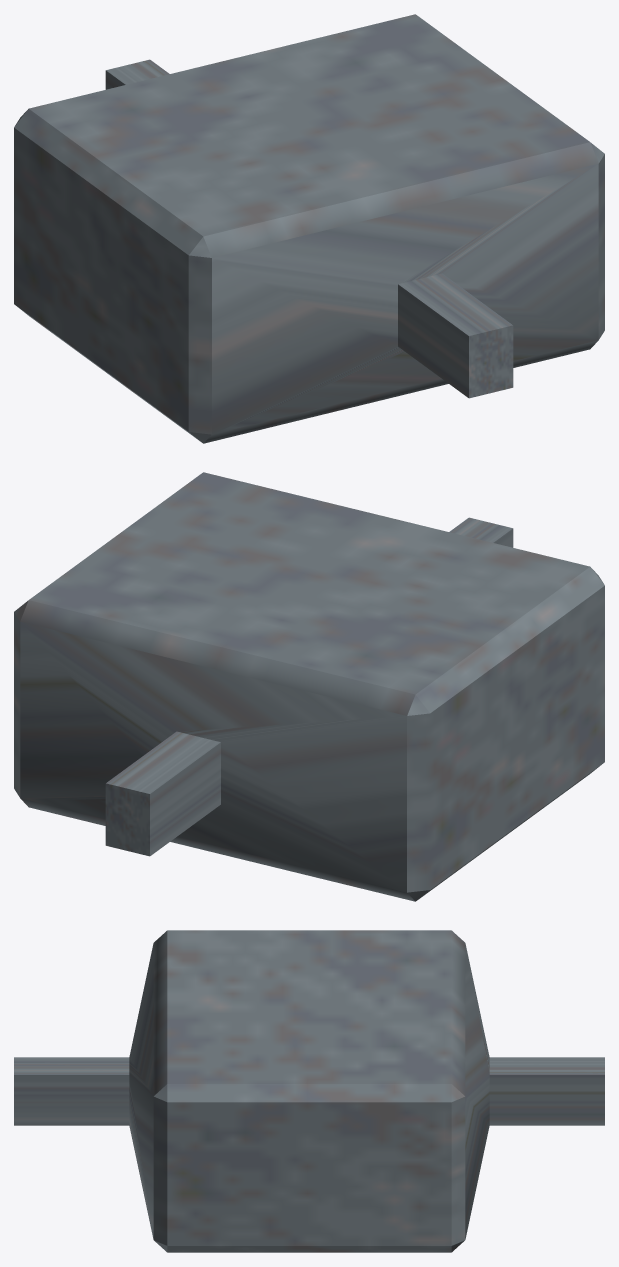
The model's file is FlakTopper.obj.
3 views of the same model, one above another, from view 1: azimuth 30°, elevation 25°; view 2: azimuth 150°, elevation 25°; view 3: azimuth 270°, elevation 25° (orthographic). The views are drawn at different scales.
Parts seen in each view (by area): view 1: FlakTopper; view 2: FlakTopper; view 3: FlakTopper.
Boxes of the visible parts, x1,y1,x2,y2 form: FlakTopper: (14, 14, 604, 443); FlakTopper: (14, 472, 604, 901); FlakTopper: (14, 930, 604, 1252).
Size of the model in its own units: 3.66 by 1.74 by 5.53.
1 material, 1 textured.
